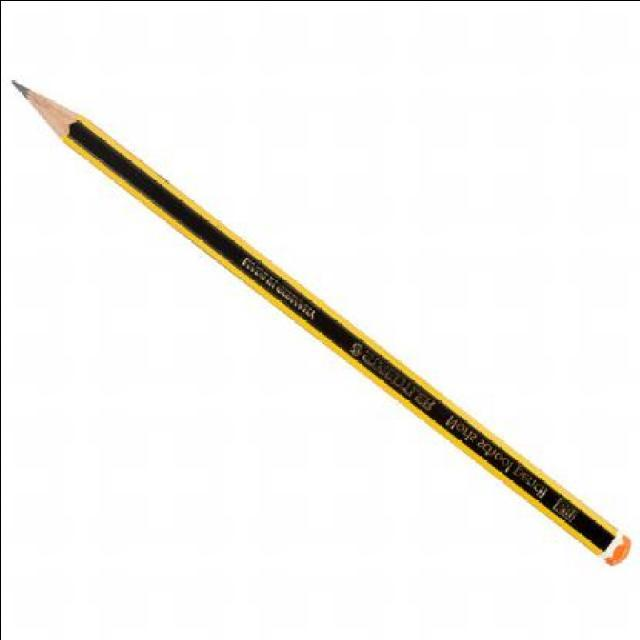Pencil: (3, 73, 128, 158)
